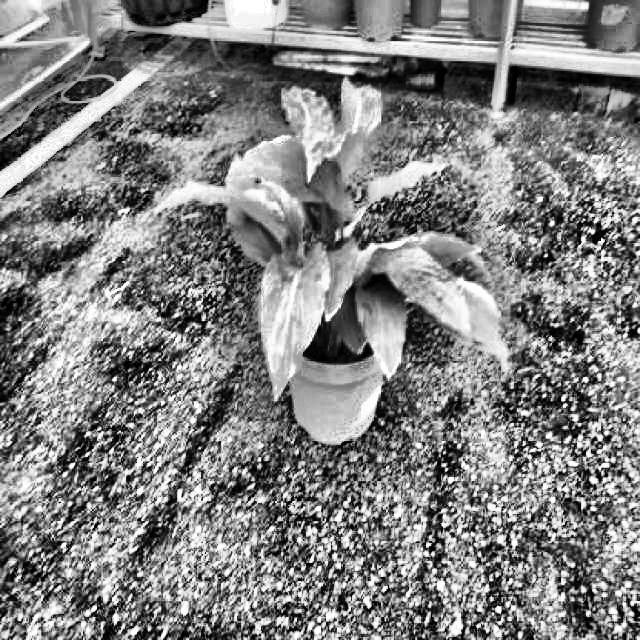plants: (152, 78, 510, 398)
